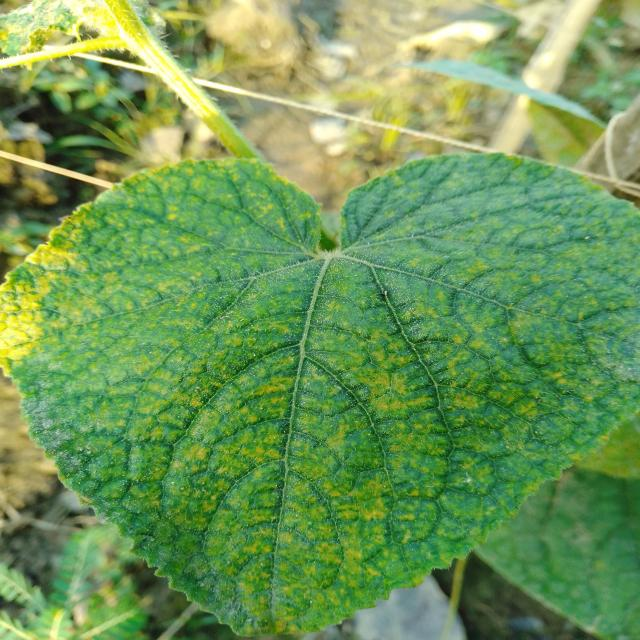cucumber_healthy: (0, 140, 640, 640)
